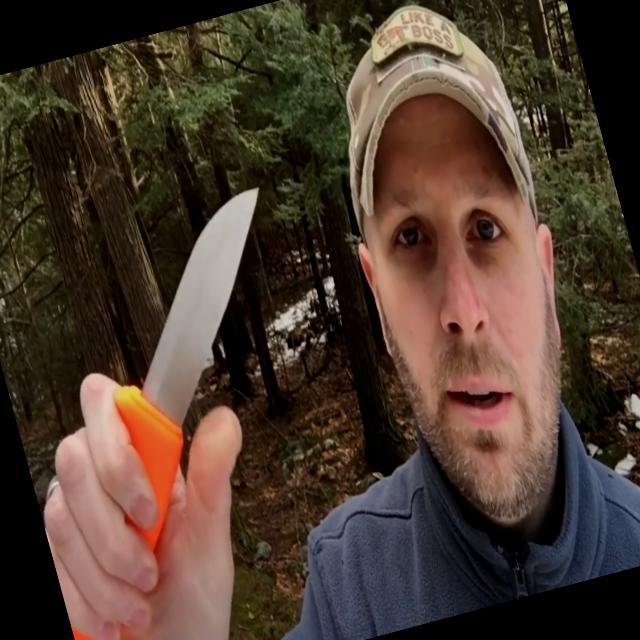knife: (28, 174, 348, 564)
